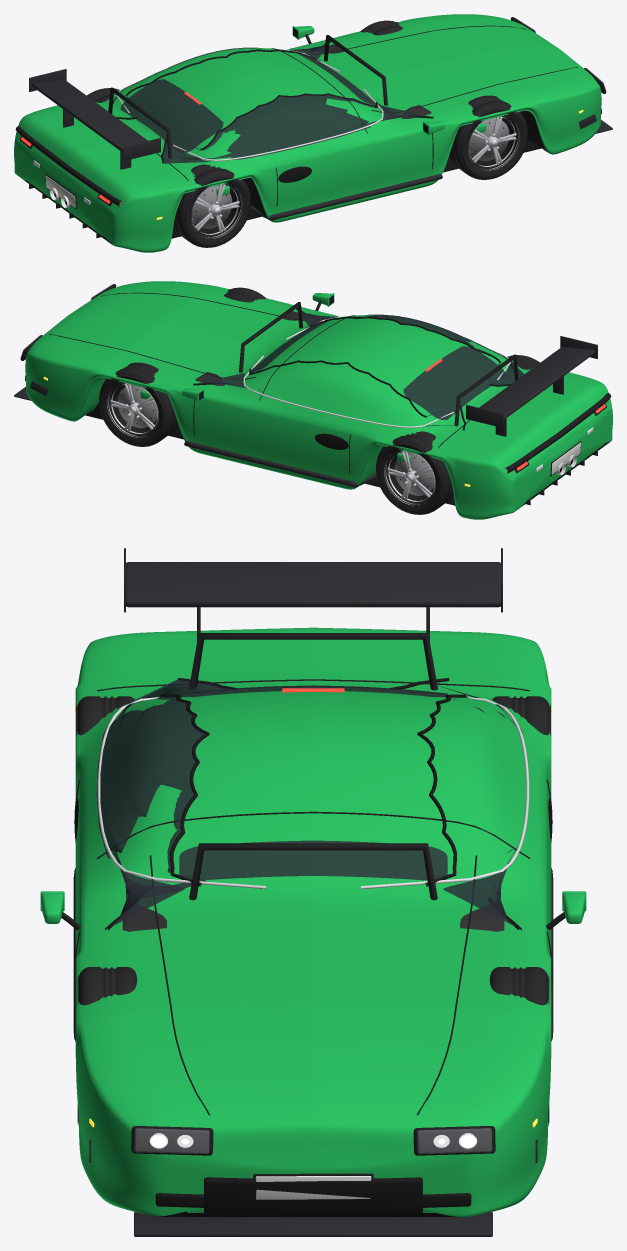
3 renders of one model, top to bottom at view 1: azimuth 30°, elevation 25°; view 2: azimuth 150°, elevation 25°; view 3: azimuth 270°, elevation 25°, orthographic. The views are drawn at different scales.
Parts seen in each view (by area): view 1: body, glass_side_R, glass_screen_1, wing, wheel_RR_tyre, wheel_FR_tyre, side_skirt, wheel_RR_disc, tail_housing, wheel_FR_disc, wing_endplate, roll_cage.001 (+13 smaller); view 2: body, glass_screen_1, wing, wheel_RL_tyre, wheel_FL_tyre, glass_side_R, side_skirt.001, wheel_RL_disc, tail_housing, wheel_FL_disc, wing_endplate.001, belt_trim.001 (+12 smaller); view 3: body, wing, glass_side_R, glass_screen_0, splitter, grille_back, roll_cage.001, roll_cage, head_housing, head_housing.001, wheel_FR_tyre, wheel_FL_tyre (+13 smaller).
Boxes of the visible parts, x1,y1,x2,y2 form: body: (14, 14, 601, 252); glass_side_R: (162, 94, 429, 163); glass_screen_1: (120, 79, 223, 152); wing: (32, 79, 147, 152); wheel_RR_tyre: (173, 164, 250, 247); wheel_FR_tyre: (449, 95, 527, 179); side_skirt: (250, 174, 442, 220); wheel_RR_disc: (192, 185, 232, 228); tail_housing: (15, 126, 122, 206); wheel_FR_disc: (469, 117, 509, 161); wing_endplate: (123, 138, 160, 160); roll_cage.001: (324, 35, 387, 105); body: (25, 281, 612, 519); glass_screen_1: (403, 346, 506, 419); wing: (479, 346, 594, 419); wheel_RL_tyre: (376, 431, 453, 514); wheel_FL_tyre: (99, 362, 177, 446); glass_side_R: (301, 312, 524, 386); side_skirt.001: (184, 441, 376, 487); wheel_RL_disc: (394, 452, 434, 495); tail_housing: (504, 393, 611, 473); wheel_FL_disc: (117, 384, 157, 428); wing_endplate.001: (466, 405, 503, 427); belt_trim.001: (243, 355, 453, 428); body: (75, 627, 551, 1216); wing: (126, 562, 500, 607); glass_side_R: (96, 679, 229, 926); glass_screen_0: (179, 840, 447, 880); splitter: (134, 1212, 492, 1236); grille_back: (204, 1177, 422, 1214); roll_cage.001: (189, 843, 437, 900); roll_cage: (189, 633, 437, 690); head_housing: (131, 1126, 213, 1155); head_housing.001: (413, 1126, 495, 1155); wheel_FR_tyre: (77, 967, 137, 1125); wheel_FL_tyre: (489, 967, 549, 1125).
Bounding box in the file's own units: 4.89 × 1.04 × 2.27.
